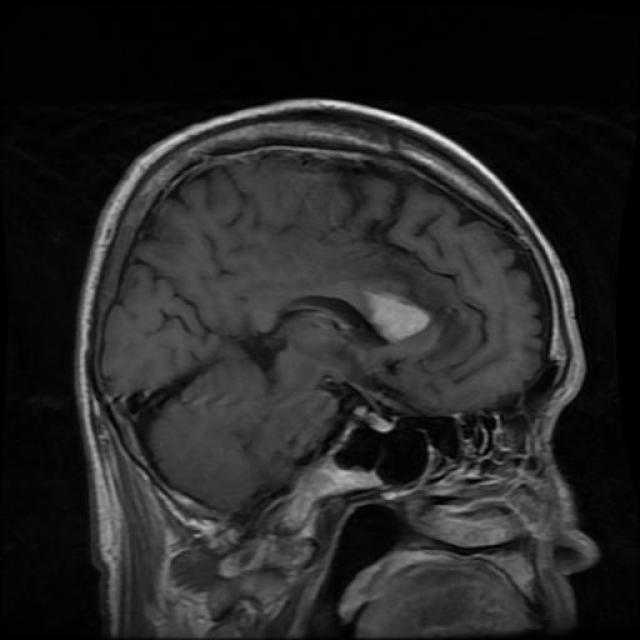glioma: (327, 262, 438, 352)
